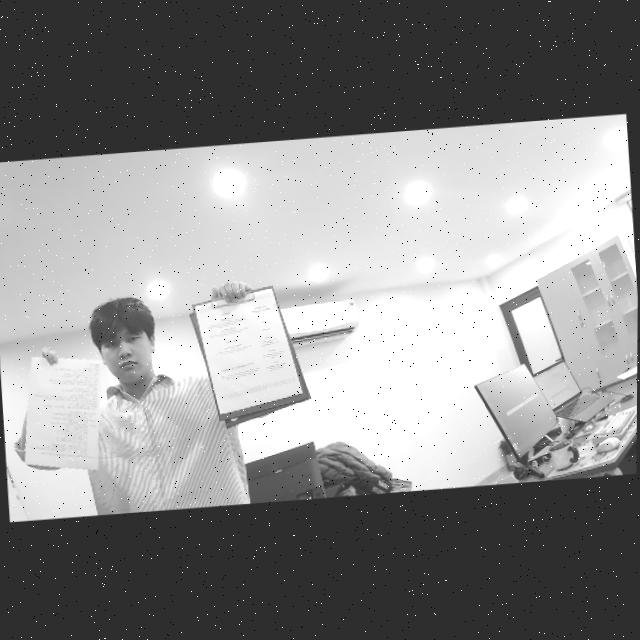document: (194, 288, 302, 414), (25, 356, 101, 469)
face: (99, 301, 151, 380)
